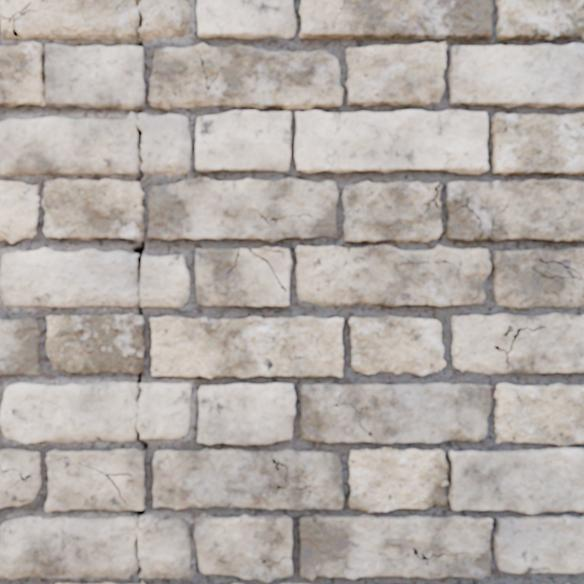brick: (149, 44, 342, 109), (300, 514, 491, 579), (148, 178, 337, 241), (295, 111, 487, 173), (296, 246, 490, 306), (151, 317, 342, 377), (153, 449, 343, 509), (300, 383, 490, 442), (0, 42, 144, 109), (449, 447, 583, 513), (449, 44, 583, 107), (446, 180, 583, 241), (452, 314, 583, 373), (300, 0, 492, 40), (194, 514, 291, 581), (348, 448, 447, 511), (45, 449, 144, 511), (346, 43, 445, 105), (42, 179, 143, 239), (342, 182, 441, 242), (46, 313, 144, 373), (198, 384, 294, 444), (491, 113, 583, 174), (196, 111, 290, 170), (350, 316, 444, 374), (495, 384, 583, 444), (492, 249, 583, 307), (196, 249, 288, 306), (494, 516, 583, 572), (197, 0, 295, 38), (497, 0, 583, 39), (0, 449, 40, 507), (0, 182, 38, 242), (0, 319, 39, 374), (254, 249, 291, 289)
broken_brick: (0, 514, 191, 579), (0, 111, 191, 176), (0, 381, 191, 444), (0, 247, 137, 307), (16, 0, 136, 40), (141, 253, 190, 308), (138, 0, 190, 39), (0, 0, 28, 15), (7, 22, 19, 38), (0, 19, 6, 33)
crack: (492, 324, 547, 371), (460, 195, 510, 239), (247, 248, 287, 293), (0, 0, 42, 38), (531, 257, 583, 280), (131, 239, 145, 316), (419, 182, 441, 218), (132, 535, 144, 583), (135, 126, 144, 186), (132, 426, 148, 453), (134, 0, 143, 47), (133, 371, 143, 408), (226, 248, 240, 274), (259, 556, 291, 564), (131, 509, 145, 525), (257, 247, 285, 253), (143, 64, 147, 74), (138, 108, 142, 114), (98, 302, 104, 305), (22, 171, 26, 174)
